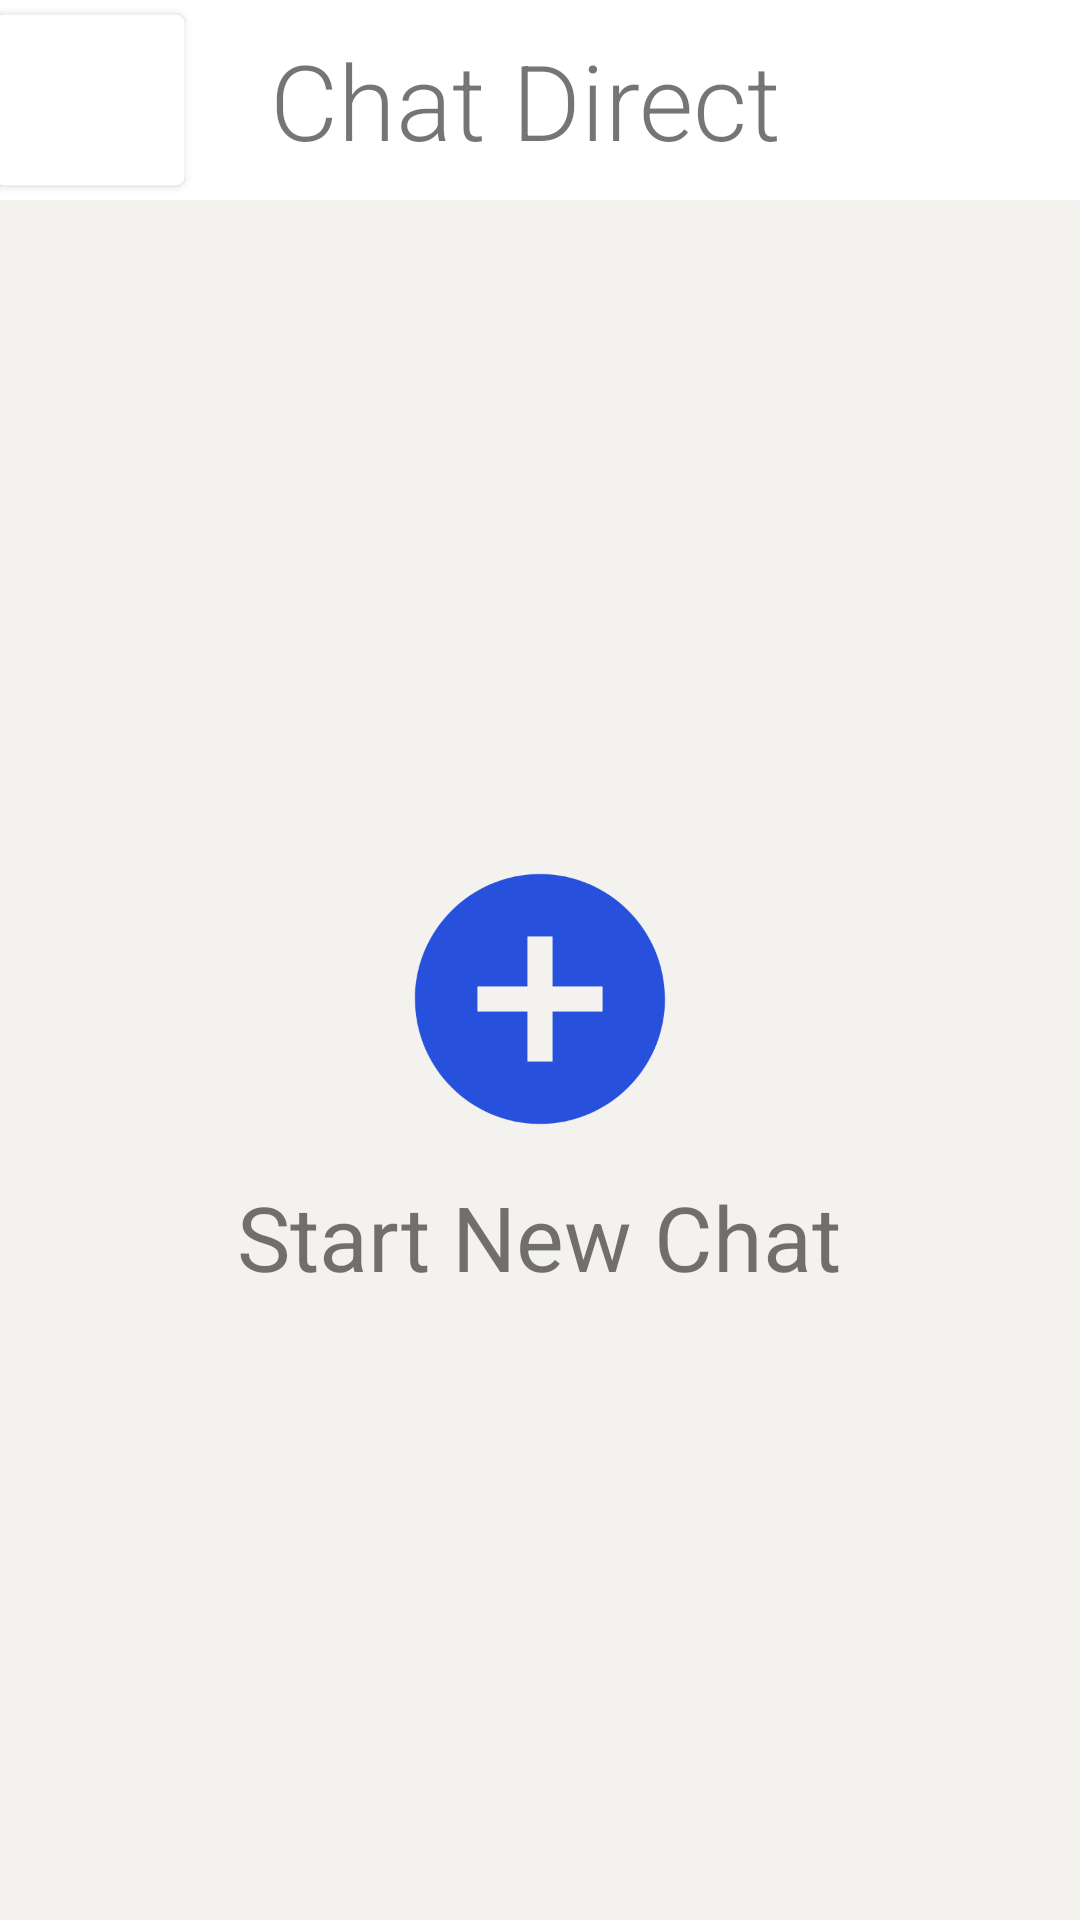

Icons on this 1080px×1920px Android screen, each with its box as box(x1, y1, x2, y2):
add circle: box(414, 873, 666, 1125)
